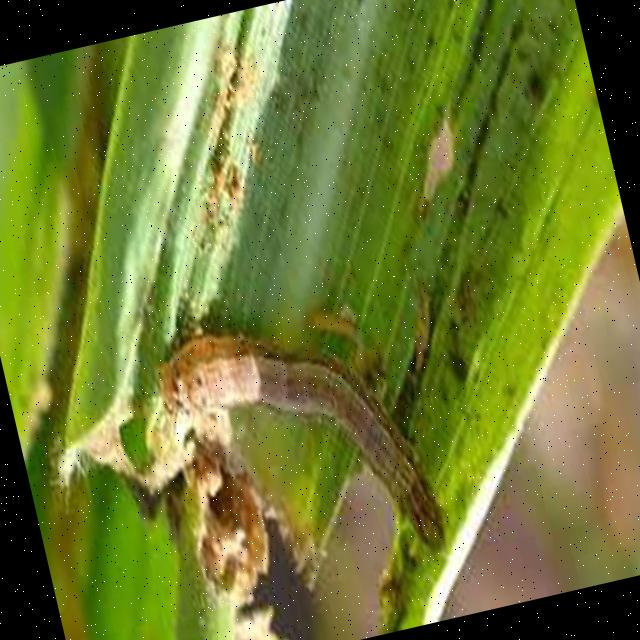worm: (143, 284, 454, 612)
